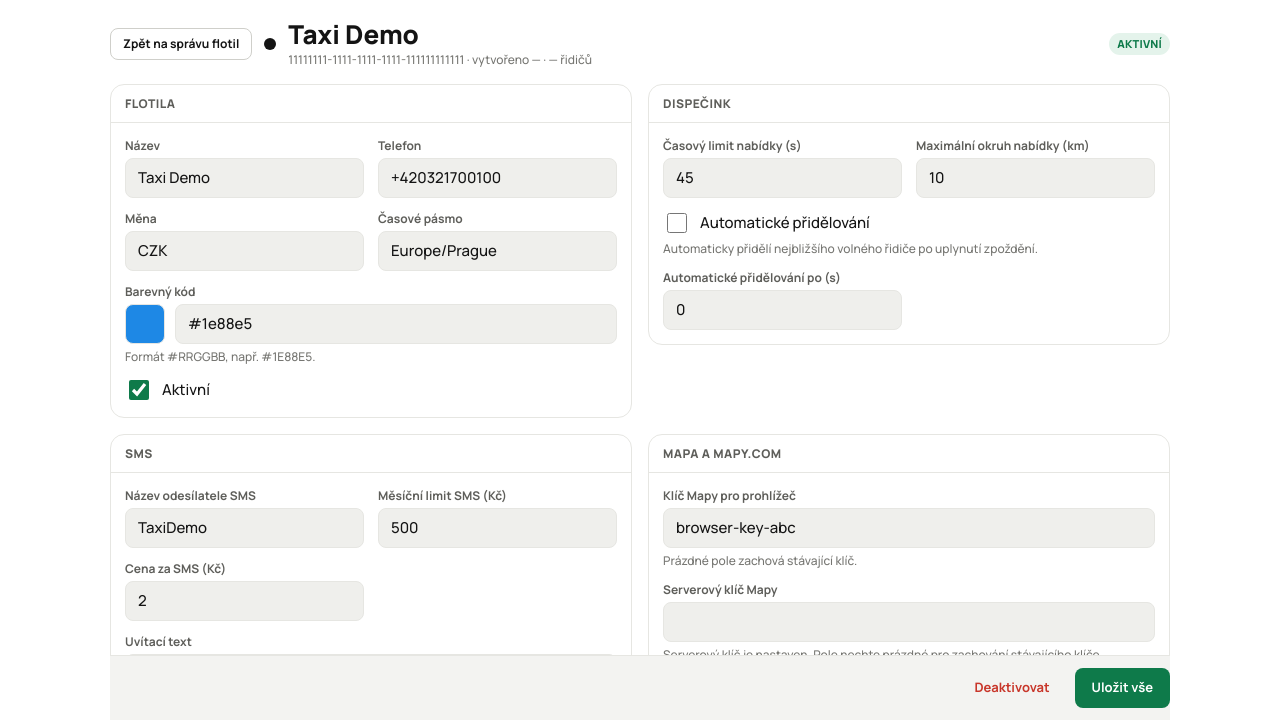
Test: AdminTenantSettingsPage (UC-012) › Deaktivovat flips the Aktivní toggle off (committed via the single save)
The width and height of the screenshot is (1280, 720).
Expected: the field showing "Taxi Demo" is shown, [136,159,353,197]
Expected: the checkbox labelled "Aktivní" is checked, [129,380,149,400]
Step 1. Click the button "Deaktivovat" → (1012, 688), box [957,668,1067,708]
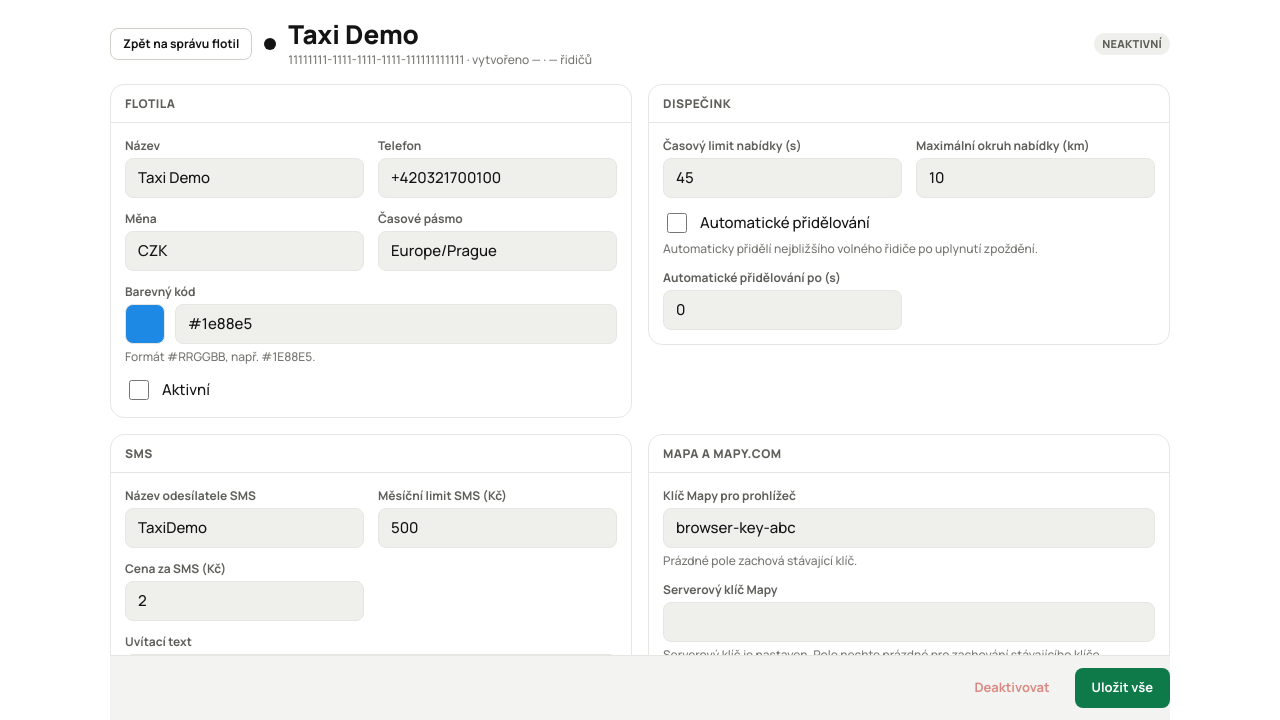
Expected: the checkbox labelled "Aktivní" is not checked, [129,380,149,400]
